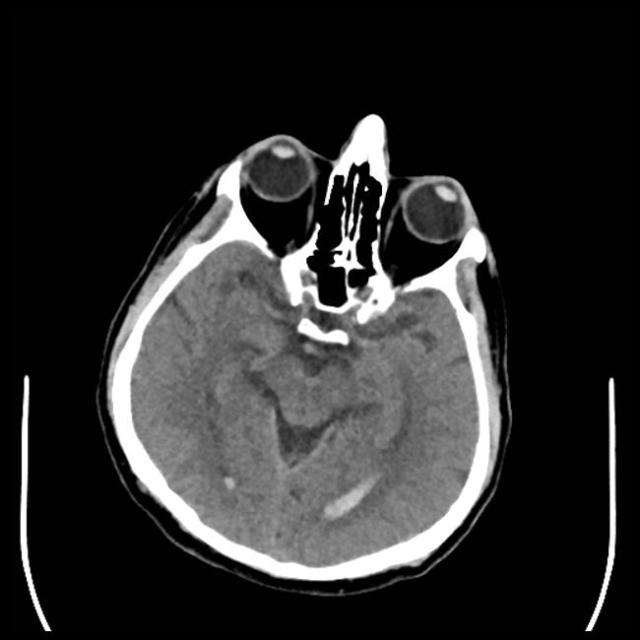lesion: (94, 110, 517, 593)
